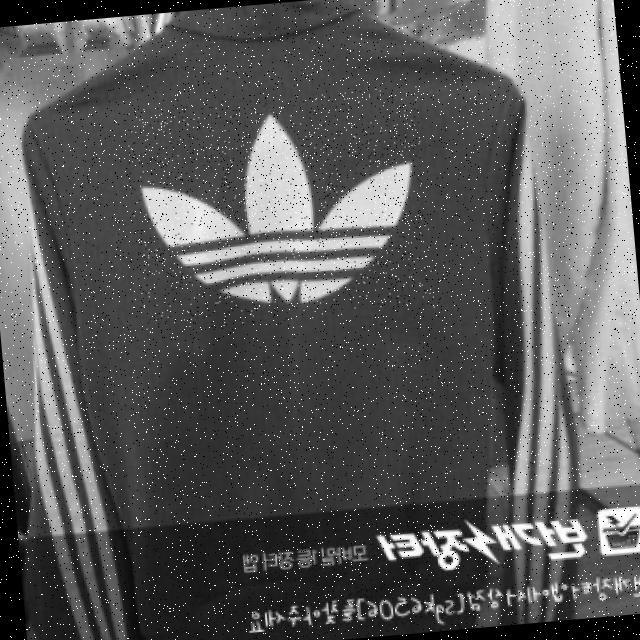Adidas: (123, 85, 436, 333)
